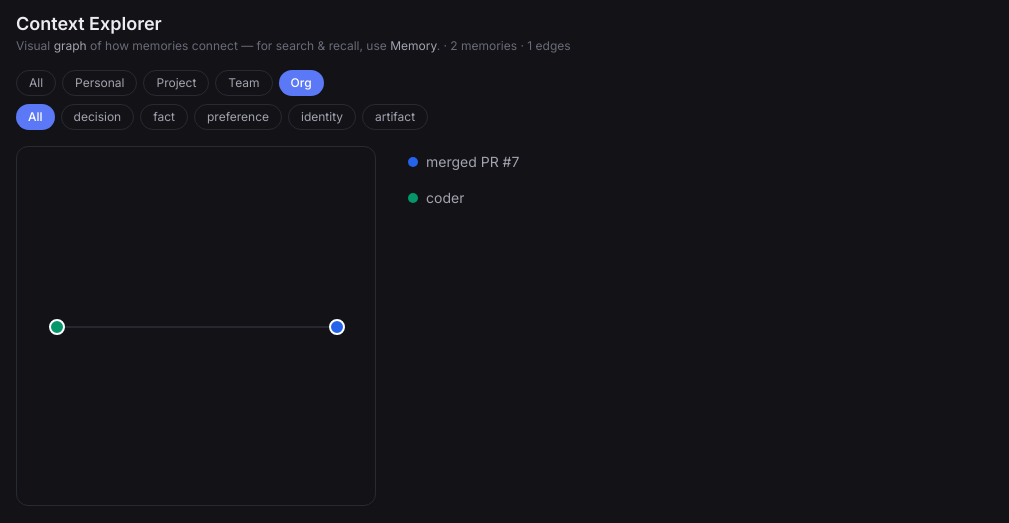
it: ContextExplorer › selecting a node shows its detail
Click the button "merged PR #7".
click(473, 162)  # box [400,146,992,178]
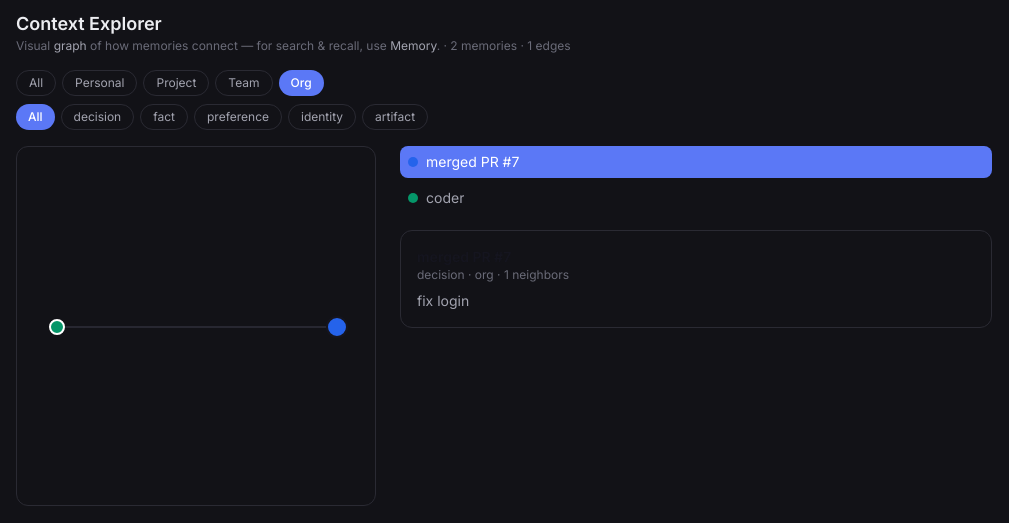
Expected: the text "fix login" is shown, [417,292,469,309]
